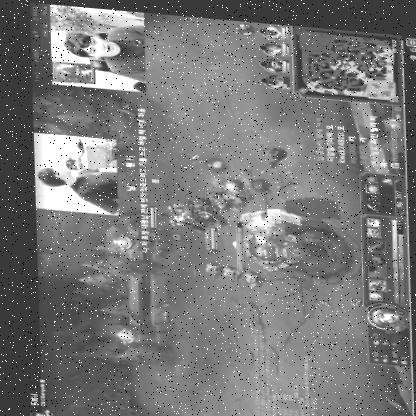donation: (31, 97, 159, 250)
streamer: (61, 18, 145, 79)
